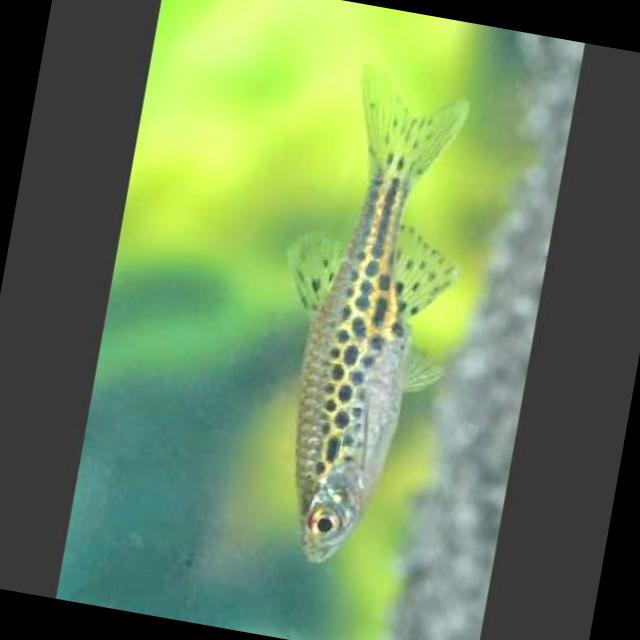ZebraFish: (240, 46, 495, 582)
